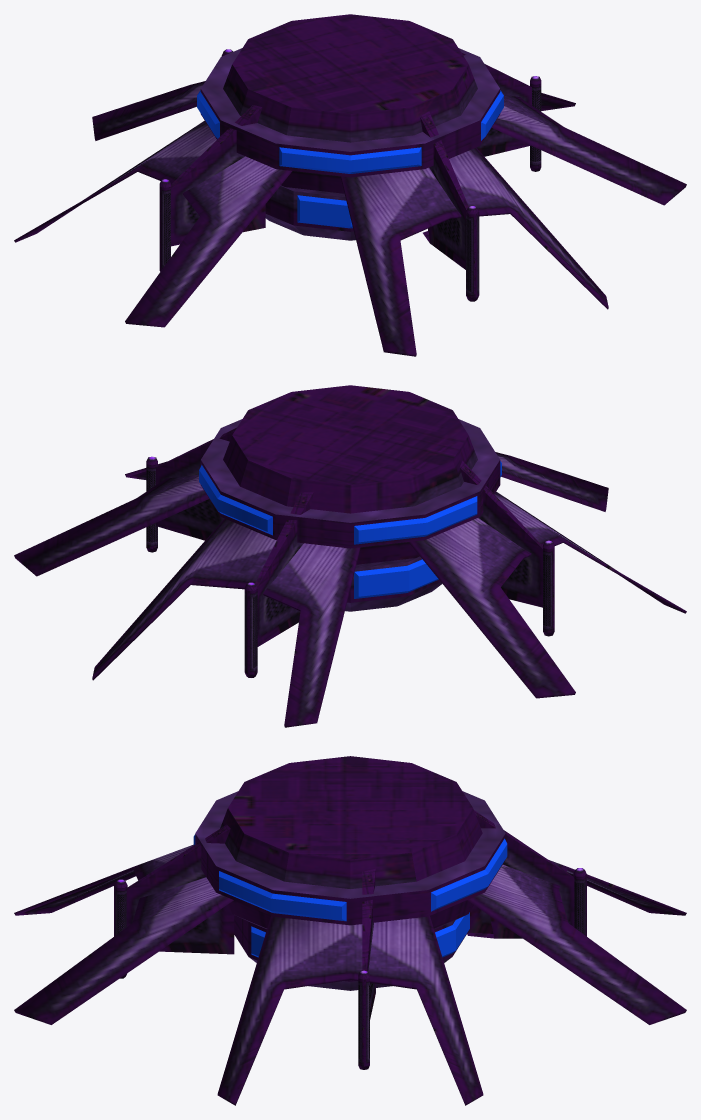
The model's file is traiwynd_TowerBase.FBX.
The picture shows the model from 3 angles, top to bottom: view 1: azimuth 30°, elevation 25°; view 2: azimuth 150°, elevation 25°; view 3: azimuth 270°, elevation 25°; orthographic projection. The views are drawn at different scales.
Visible parts, largest first — view 1: Traiwynd_TowerBase, Traiwynd_PlayerColoring; view 2: Traiwynd_TowerBase, Traiwynd_PlayerColoring; view 3: Traiwynd_TowerBase, Traiwynd_PlayerColoring.
Boxes of the visible parts, x1=… form: Traiwynd_TowerBase: x1=14, y1=14, x2=686, y2=356; Traiwynd_PlayerColoring: x1=197, y1=90, x2=503, y2=228; Traiwynd_TowerBase: x1=14, y1=385, x2=686, y2=727; Traiwynd_PlayerColoring: x1=199, y1=461, x2=501, y2=598; Traiwynd_TowerBase: x1=14, y1=756, x2=686, y2=1105; Traiwynd_PlayerColoring: x1=193, y1=834, x2=507, y2=957.
Size of the model in its own units: 87.57 by 87.57 by 23.69.
